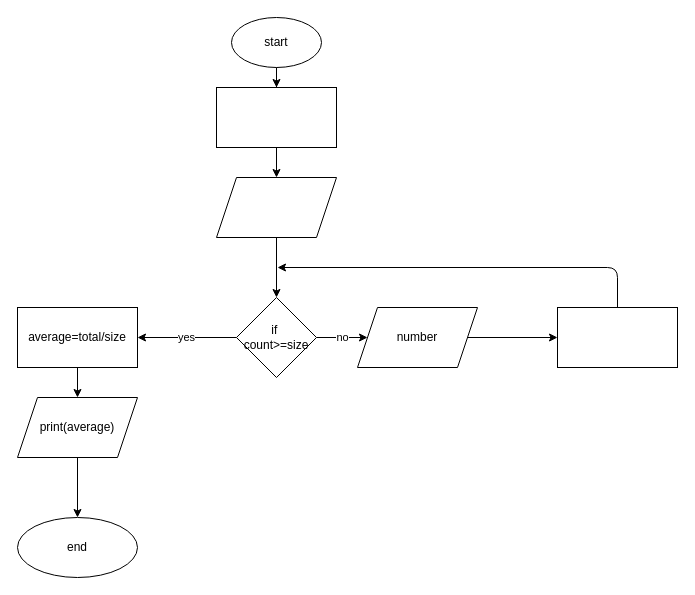
Image size: 695x595. Some labels were removed from this diagram. Here are the shapes that lost their labels. From the top down, the centre of each, then its label:
(x=276, y=117): count=0 total=0 size=0 avarage=0
(x=276, y=207): size
(x=617, y=337): total +=number, count++
